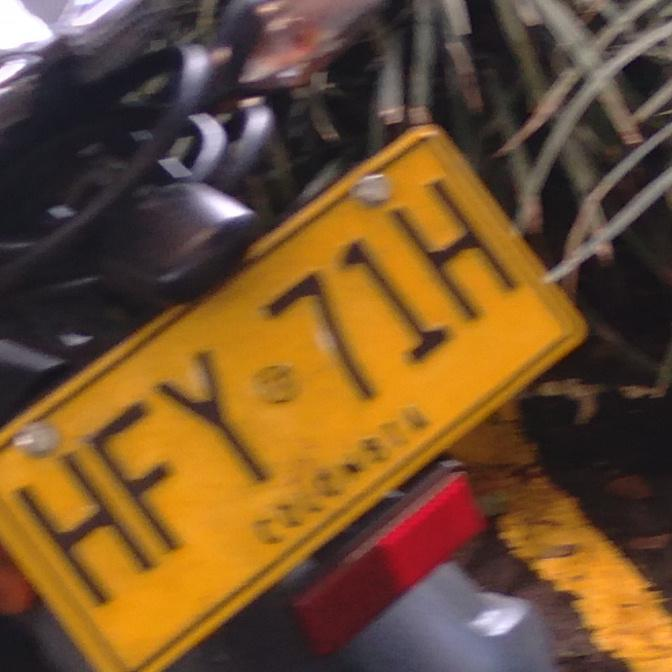plates: (0, 110, 601, 672)
